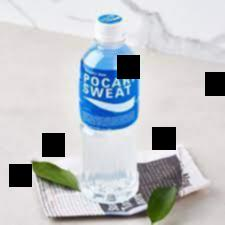pocarisweat: (75, 9, 147, 212)
